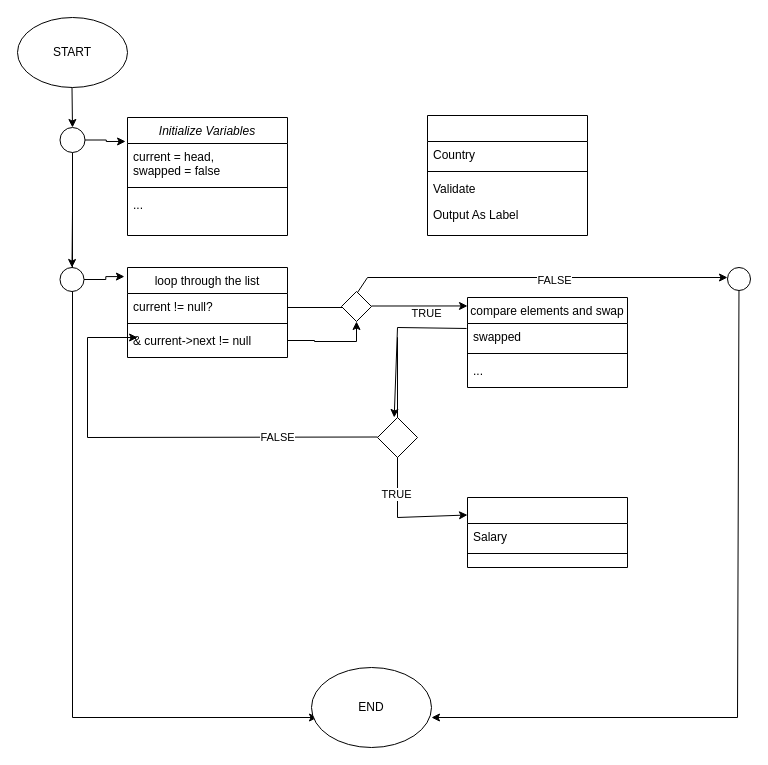
This 768x765 diagram has some shape labels left out. Each missing label, with the box of its shape:
Address: (426, 114, 588, 236)
Print after swap: (466, 496, 628, 568)
